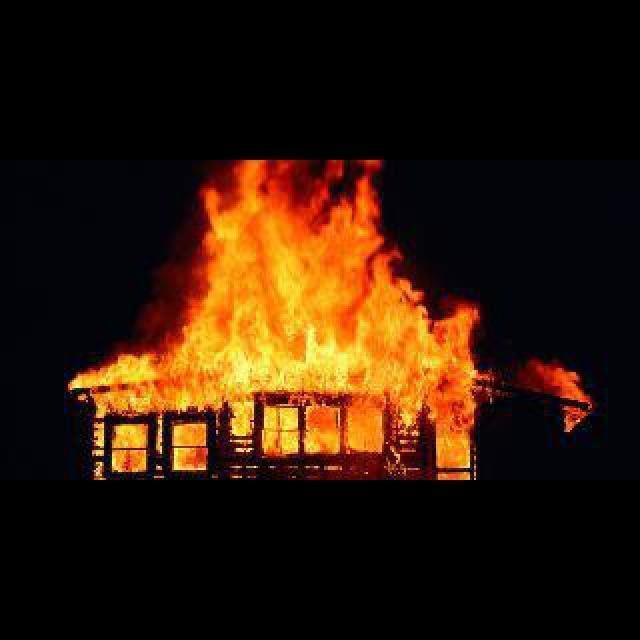Fire: (66, 160, 590, 478)
